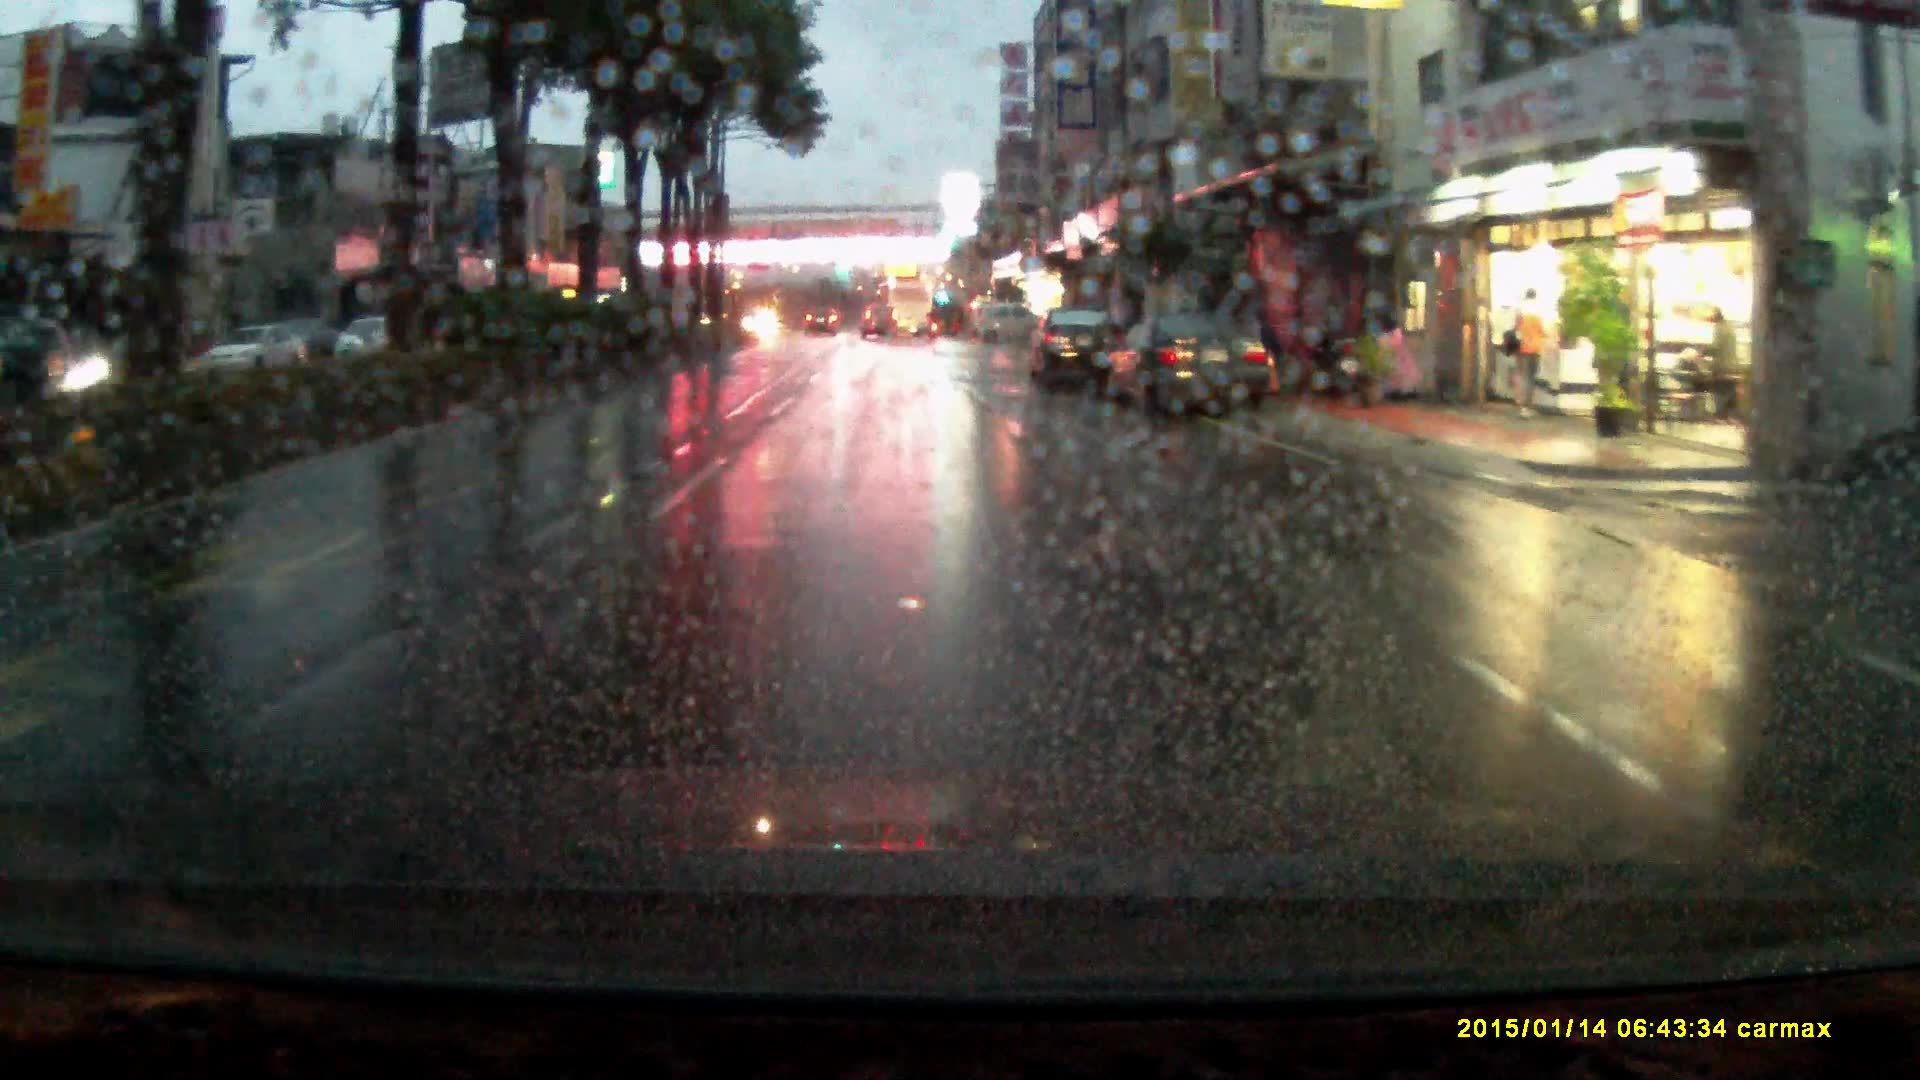vehicle: (1096, 306, 1276, 410), (1030, 302, 1124, 390), (198, 323, 311, 378), (971, 301, 1044, 344), (335, 313, 402, 357), (878, 280, 934, 334), (860, 302, 899, 335), (804, 301, 844, 330)
